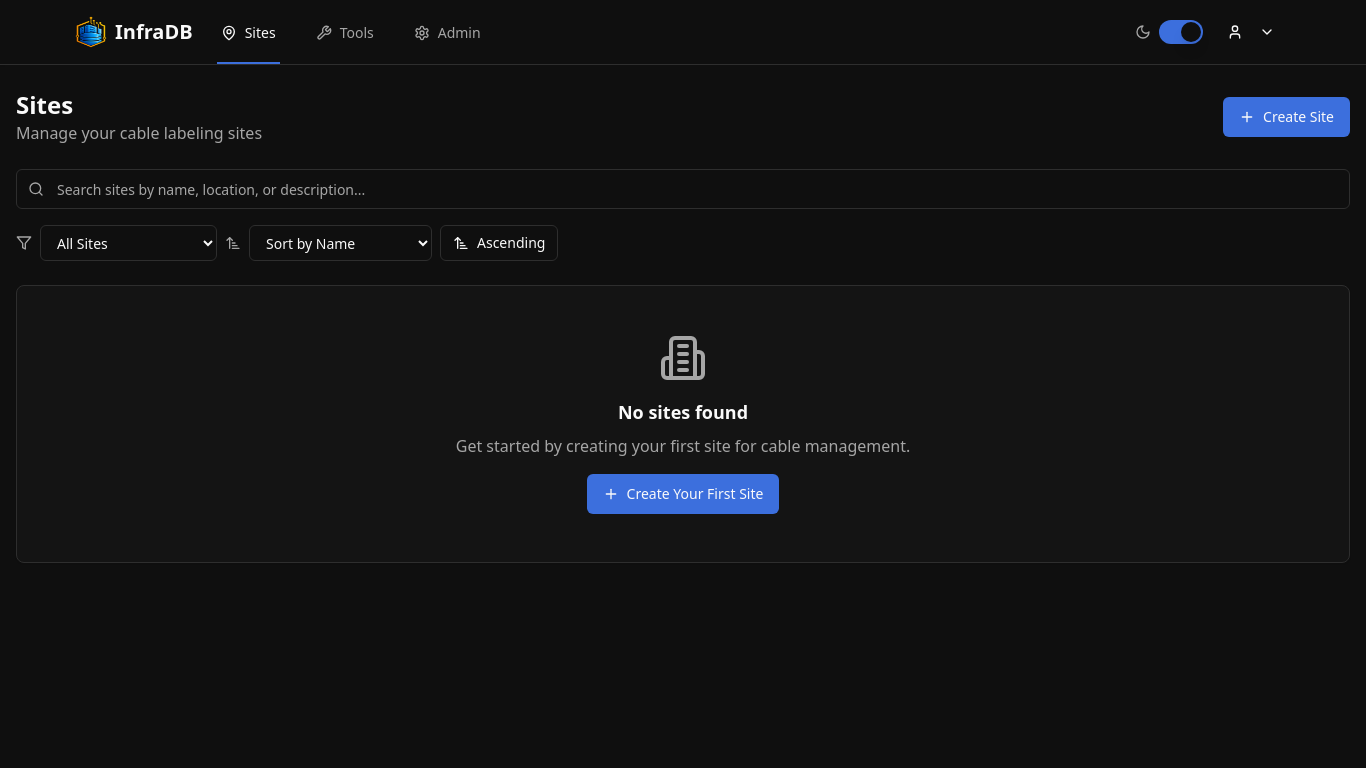
Error Scenarios Integration Tests › should handle API errors during form submission
Check: the heading "Sites" is shown, box [16,88,73,121]
# Click create site button
Click the button "Create Site" at (1286, 117), box [1223,97,1350,137]
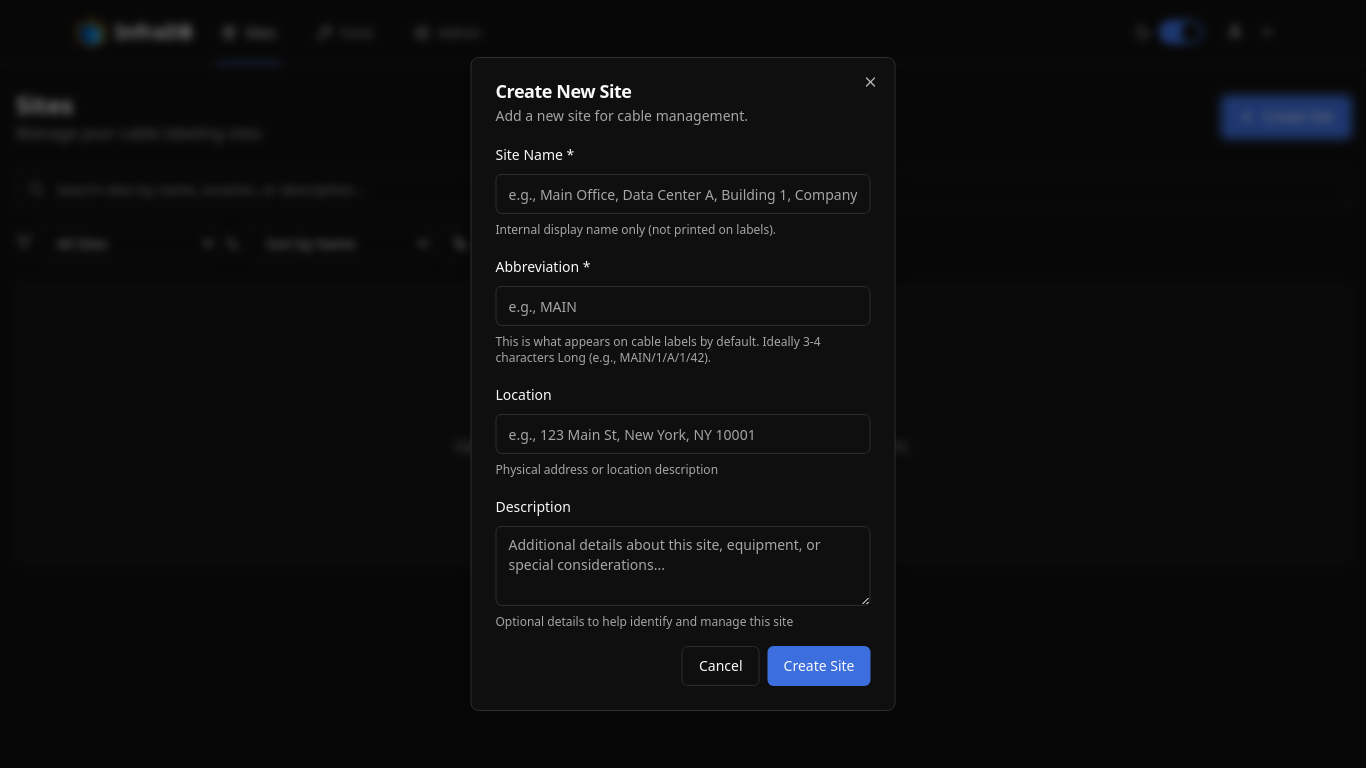
Check: the heading "Create New Site" is shown, box [496,79,632,103]
# Fill in site form
Type "Duplicate Site" into the field labelled "Site Name *" at (683, 194), box [496,174,870,214]
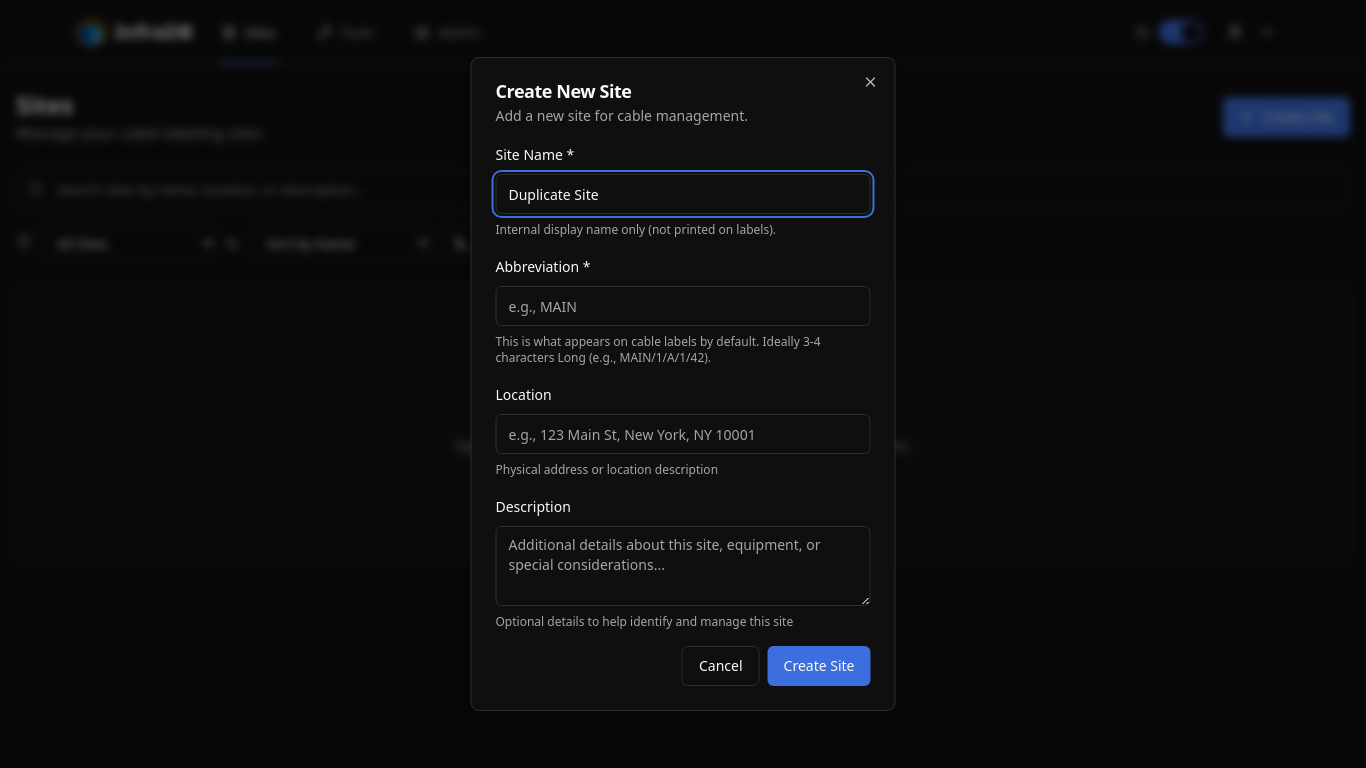
Type "DUP" into the field labelled "Abbreviation *" at (683, 306), box [496,286,870,326]
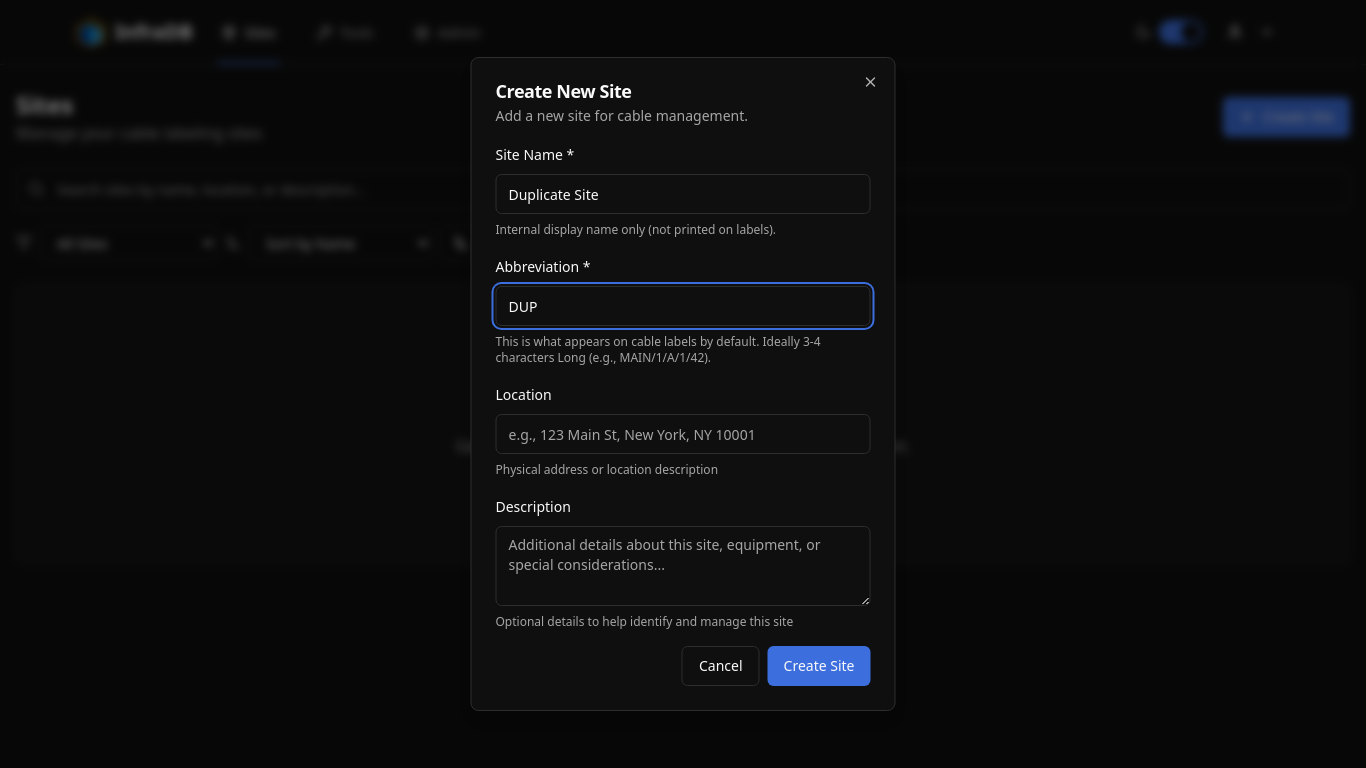
Click the button "Create Site" at (819, 666), box [768,646,870,686]
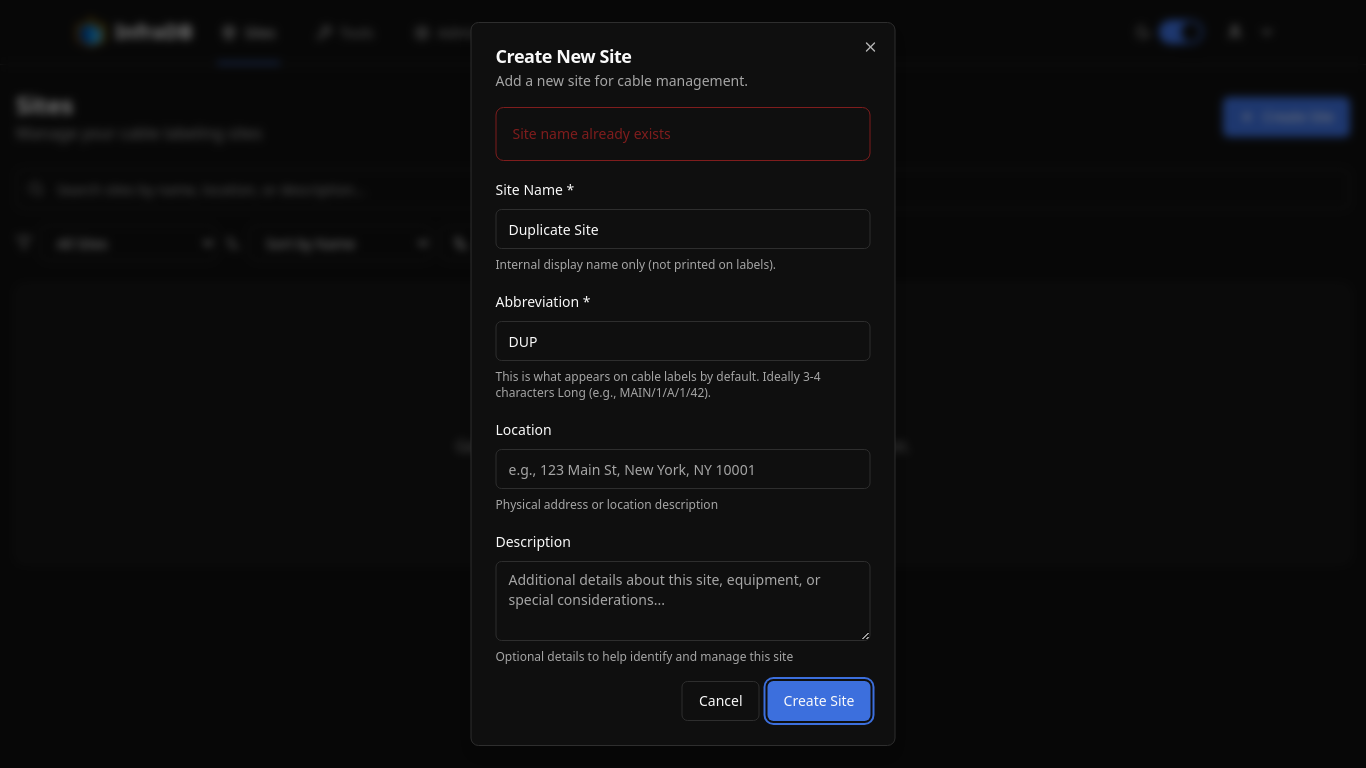
Check: the text "Site name already exists" is shown, box [512,124,671,143]
